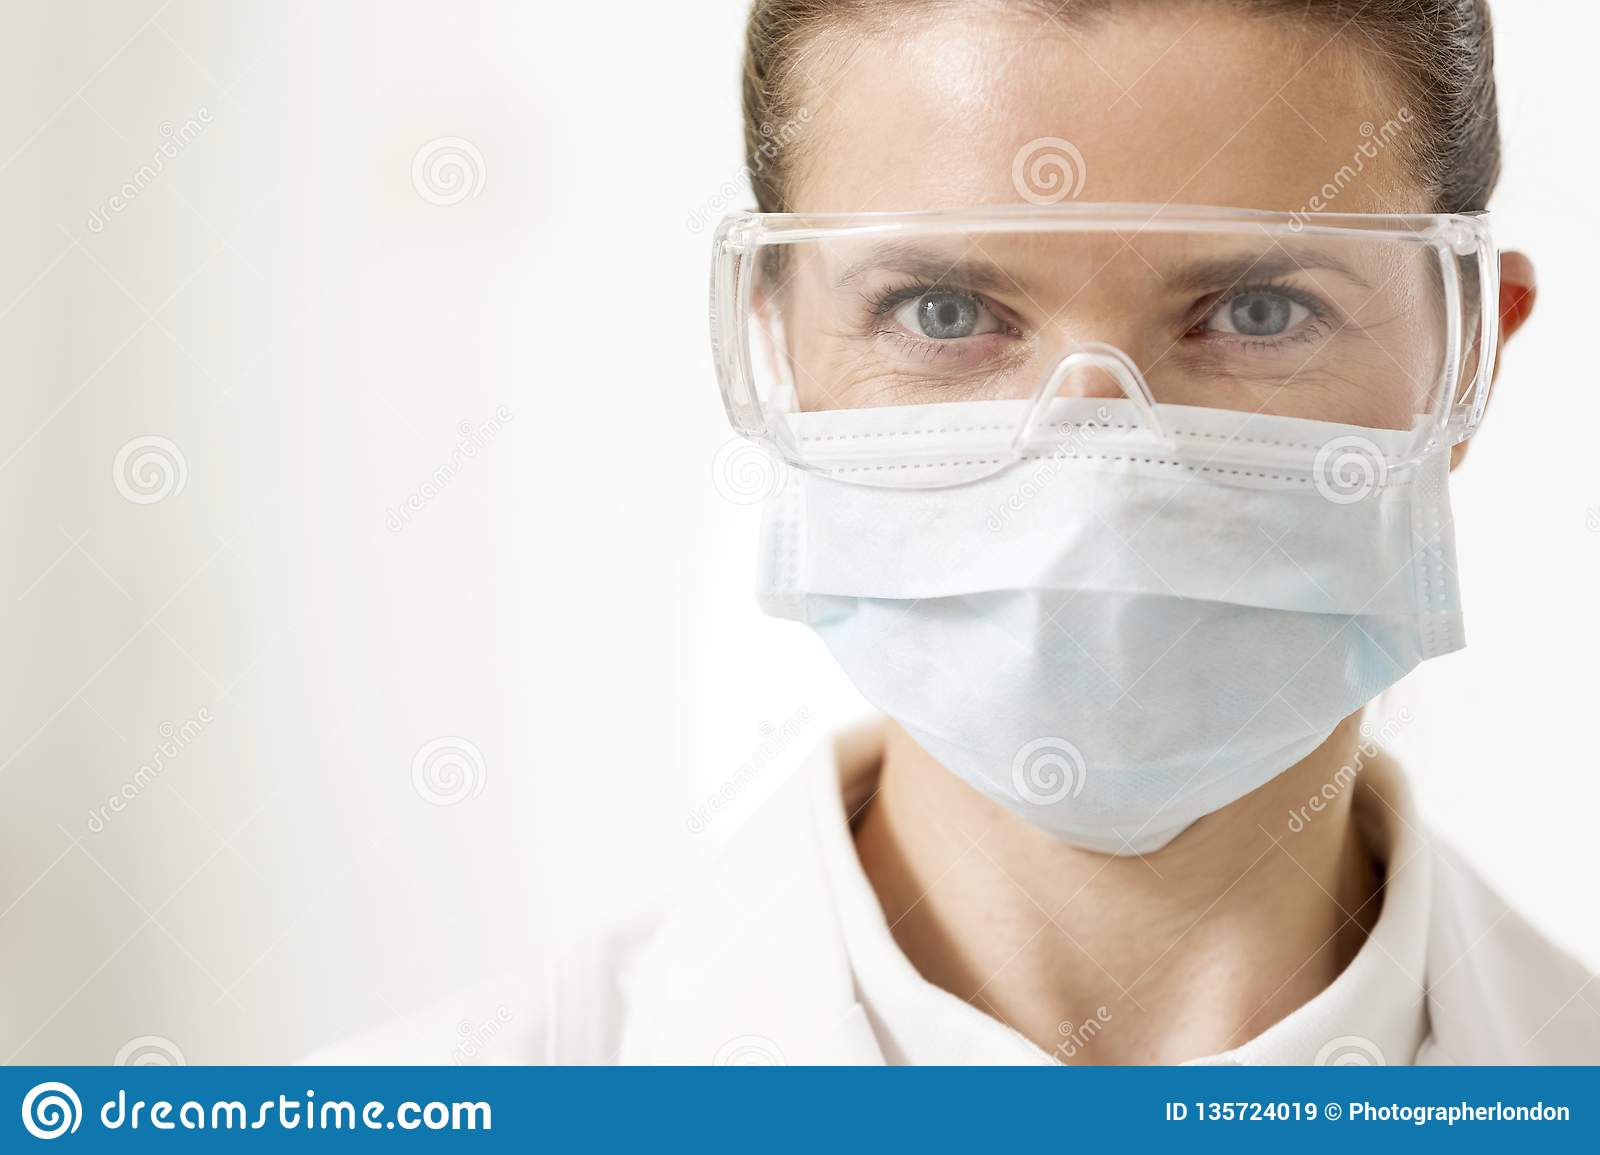mask: (748, 395, 1473, 845)
